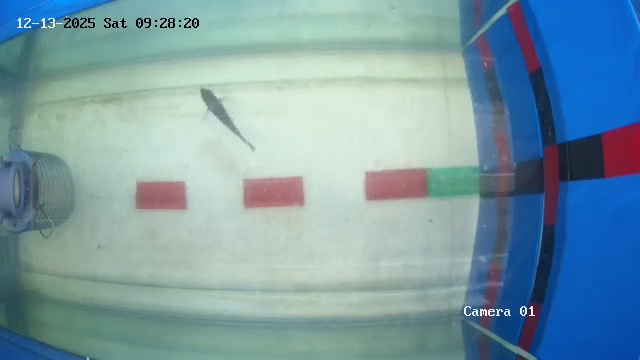fish: (200, 89, 255, 153)
